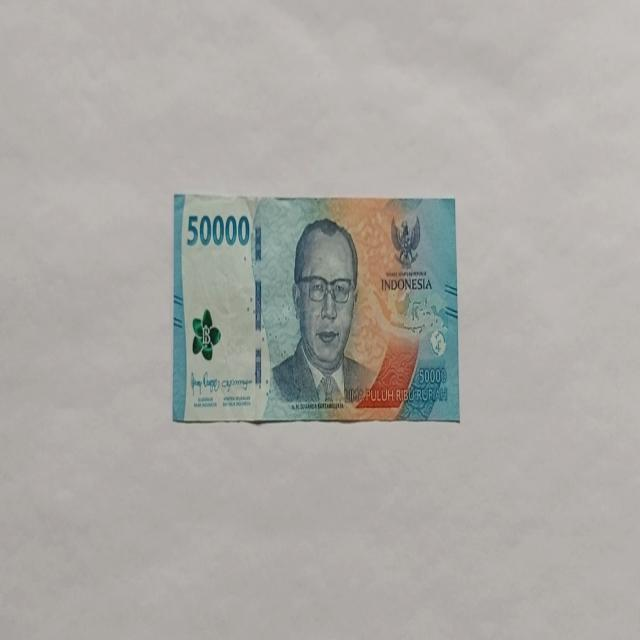lima puluh ribu rupiah: (172, 191, 460, 425), (265, 216, 378, 414)
